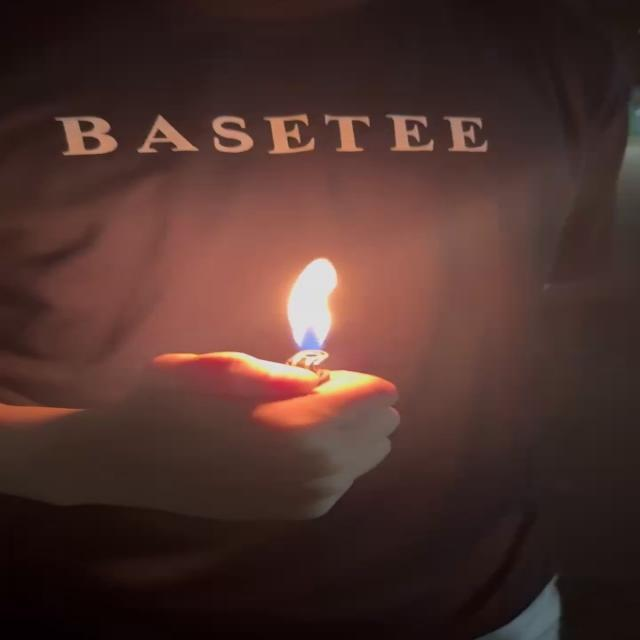Fire: (283, 255, 341, 359)
